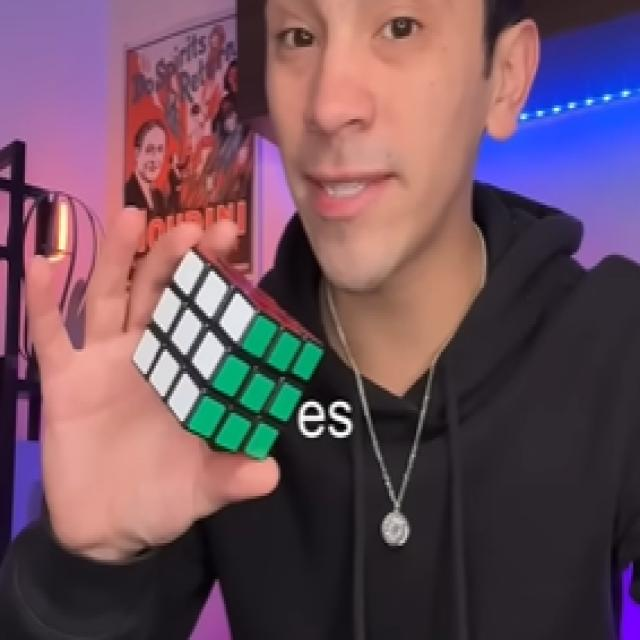Cubo-Resuelto: (133, 249, 321, 457)
